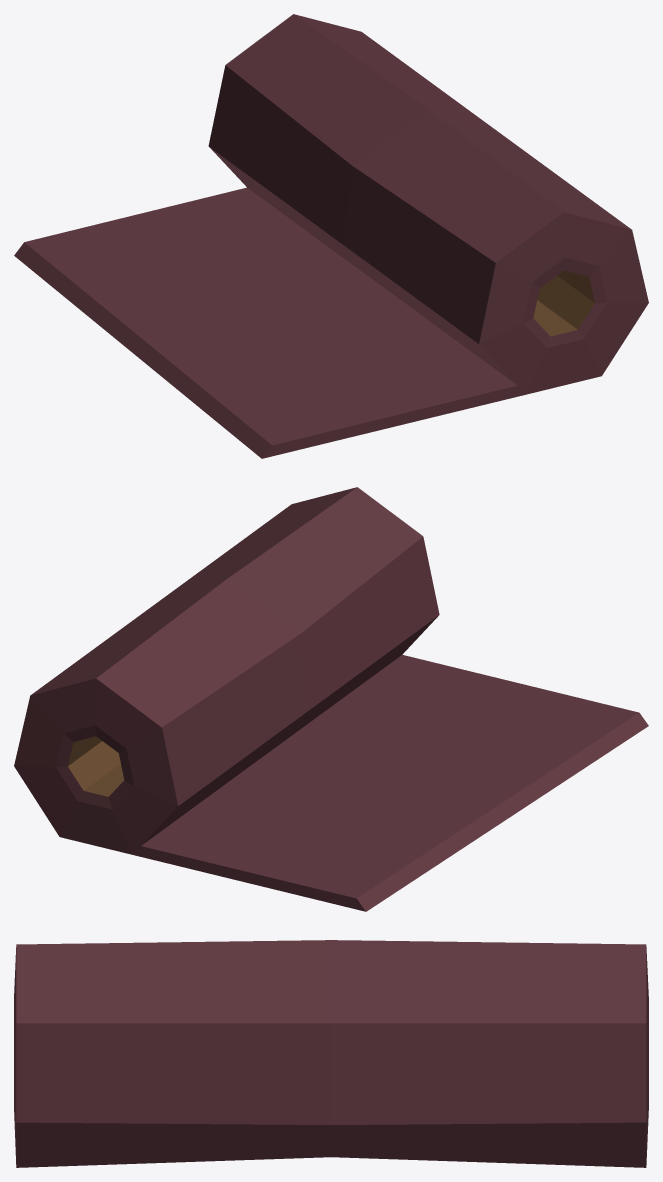
Rendered from fiberglass.fbx.
3 renders of one model, top to bottom at view 1: azimuth 30°, elevation 25°; view 2: azimuth 150°, elevation 25°; view 3: azimuth 270°, elevation 25°, orthographic. The views are drawn at different scales.
Parts seen in each view (by area): view 1: fiberglass; view 2: fiberglass; view 3: fiberglass.
Boxes of the visible parts, left/top/right/bottom form: fiberglass: left=14, top=14, right=648, bottom=458; fiberglass: left=14, top=487, right=648, bottom=911; fiberglass: left=14, top=940, right=648, bottom=1167.
Size of the model in its own units: 0.6679 by 0.2891 by 0.8062.
